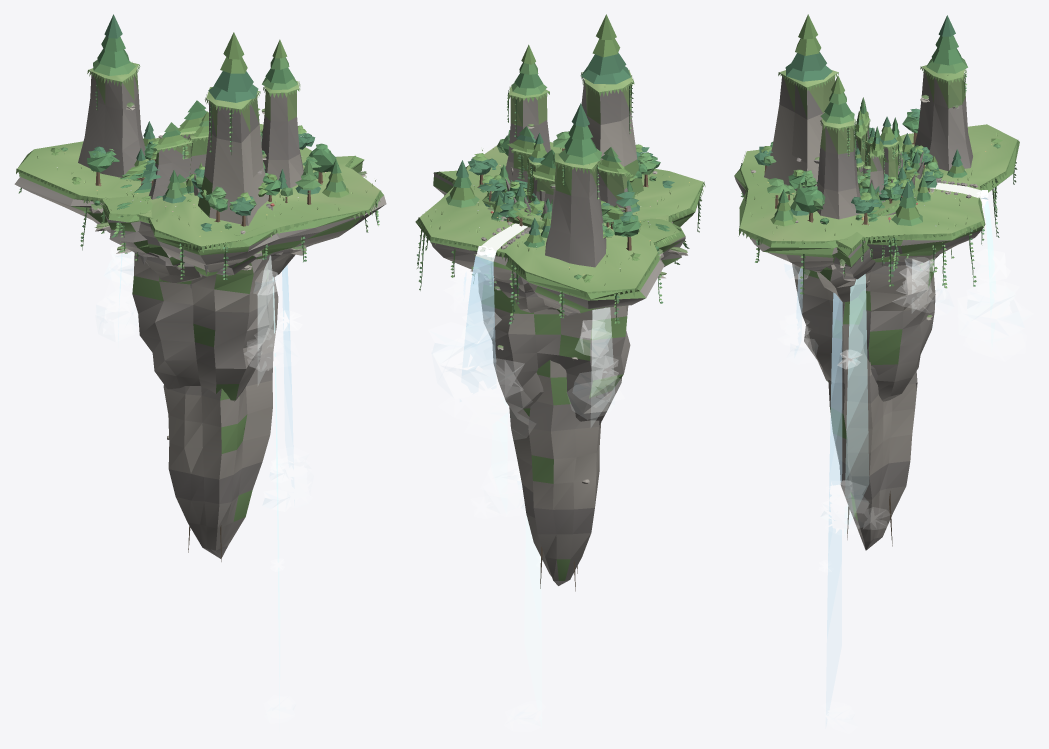
File: kit_meadow.glb
3 renders of one model, left to right at view 1: azimuth 30°, elevation 25°; view 2: azimuth 150°, elevation 25°; view 3: azimuth 270°, elevation 25°, orthographic. The views are drawn at different scales.
Visible parts, largest first — view 1: Island_Plateau_Wide, Island_Mesa_Tall, Island_Tower, Island_Twin_Falls, Island_Ridge_Long, Island_Lair_Arena, Island_Forest_Dense, Island_Keel; view 2: Island_Plateau_Wide, Island_Tower, Island_Mesa_Tall, Island_Ridge_Long, Island_Twin_Falls, Island_Forest_Dense, Island_Bowl; view 3: Island_Plateau_Wide, Island_Mesa_Tall, Island_Tower, Island_Twin_Falls, Island_Ridge_Long, Island_Forest_Dense, Island_Bowl, Island_Keel.
Part boxes in pixels (left/top/right/bottom): Island_Plateau_Wide: left=14, top=14, right=386, bottom=295; Island_Mesa_Tall: left=132, top=253, right=311, bottom=505; Island_Tower: left=163, top=277, right=294, bottom=722; Island_Twin_Falls: left=96, top=169, right=295, bottom=384; Island_Ridge_Long: left=95, top=100, right=367, bottom=264; Island_Lair_Arena: left=125, top=136, right=292, bottom=265; Island_Forest_Dense: left=131, top=132, right=274, bottom=275; Island_Keel: left=105, top=111, right=301, bottom=198; Island_Plateau_Wide: left=415, top=14, right=705, bottom=435; Island_Tower: left=508, top=360, right=601, bottom=730; Island_Mesa_Tall: left=471, top=191, right=630, bottom=517; Island_Ridge_Long: left=433, top=126, right=689, bottom=278; Island_Twin_Falls: left=495, top=133, right=624, bottom=426; Island_Forest_Dense: left=472, top=164, right=641, bottom=283; Island_Bowl: left=444, top=193, right=605, bottom=311; Island_Plateau_Wide: left=734, top=14, right=1032, bottom=360; Island_Mesa_Tall: left=792, top=160, right=935, bottom=535; Island_Tower: left=819, top=292, right=917, bottom=727; Island_Twin_Falls: left=778, top=116, right=953, bottom=358; Island_Ridge_Long: left=833, top=97, right=902, bottom=279; Island_Forest_Dense: left=802, top=133, right=954, bottom=258; Island_Bowl: left=858, top=145, right=941, bottom=312; Island_Keel: left=854, top=110, right=908, bottom=265.
Size of the model in its own units: 37.05 by 91.05 by 35.92.
